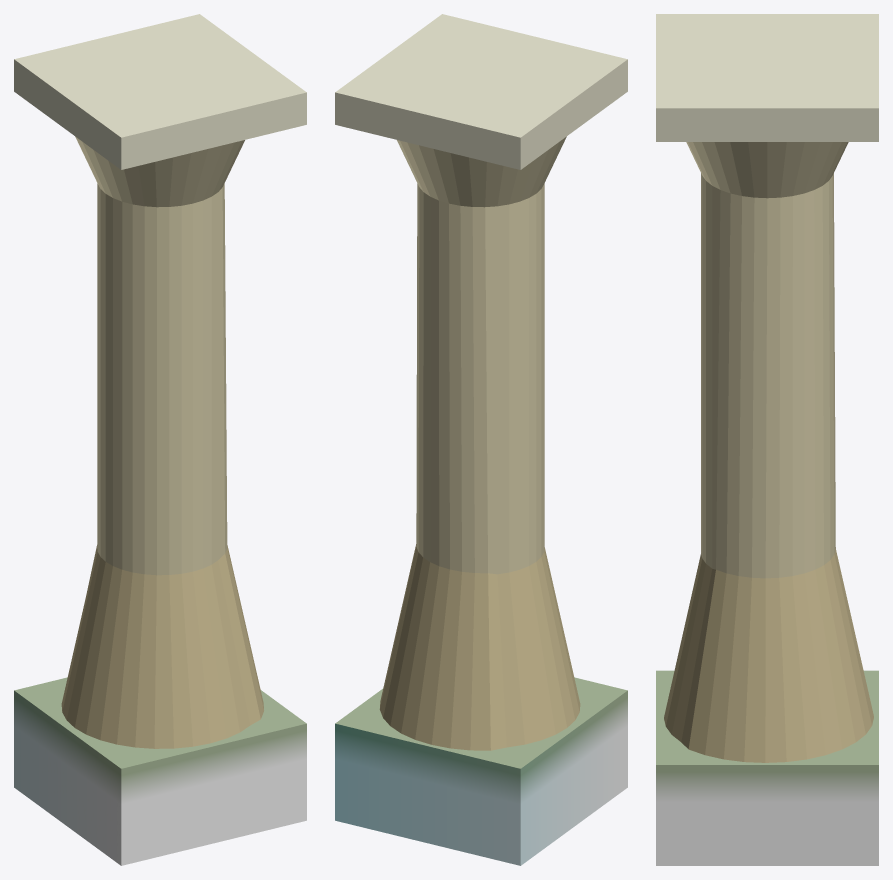
Rendered from Columna4.fbx.
The picture shows the model from 3 angles, left to right: view 1: azimuth 30°, elevation 25°; view 2: azimuth 150°, elevation 25°; view 3: azimuth 270°, elevation 25°; orthographic projection. The views are drawn at different scales.
Visible parts, largest first — view 1: Cylinder.001, Cube.012, Cube.013; view 2: Cylinder.001, Cube.012, Cube.013; view 3: Cylinder.001, Cube.013, Cube.012.
Part boxes in pixels (x1,y1,x2,y2): Cylinder.001: (61, 136, 263, 748); Cube.012: (14, 677, 306, 865); Cube.013: (14, 14, 306, 169); Cylinder.001: (379, 136, 580, 750); Cube.012: (335, 677, 627, 865); Cube.013: (335, 14, 627, 169); Cylinder.001: (664, 142, 873, 762); Cube.013: (656, 14, 878, 141); Cube.012: (656, 670, 878, 865).
Bounding box in the file's own units: 300 × 1125 × 300.
Materials: 3 (3 with a texture image).
